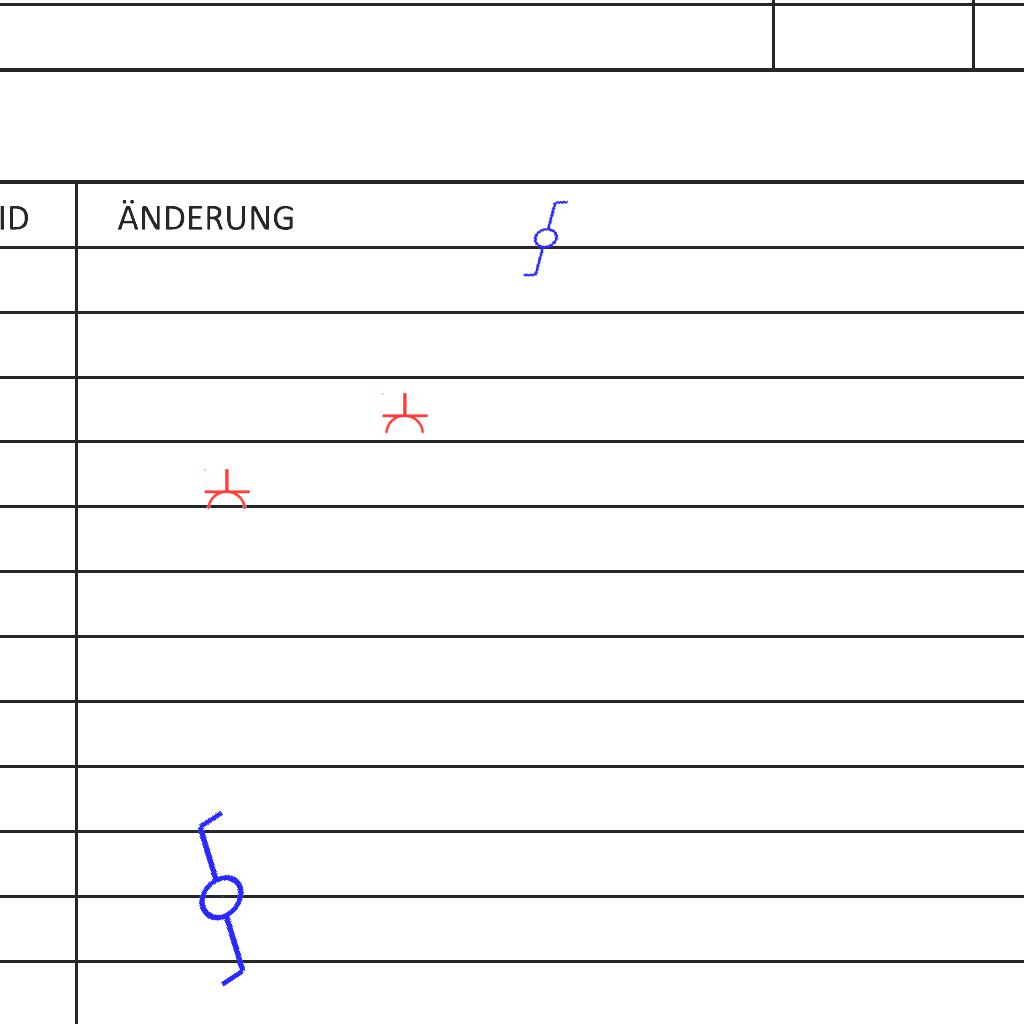Schukosteckdose_einfach: (201, 468, 251, 511), (379, 392, 429, 435)
Wechselschalter: (122, 786, 335, 1000), (502, 192, 598, 284)
